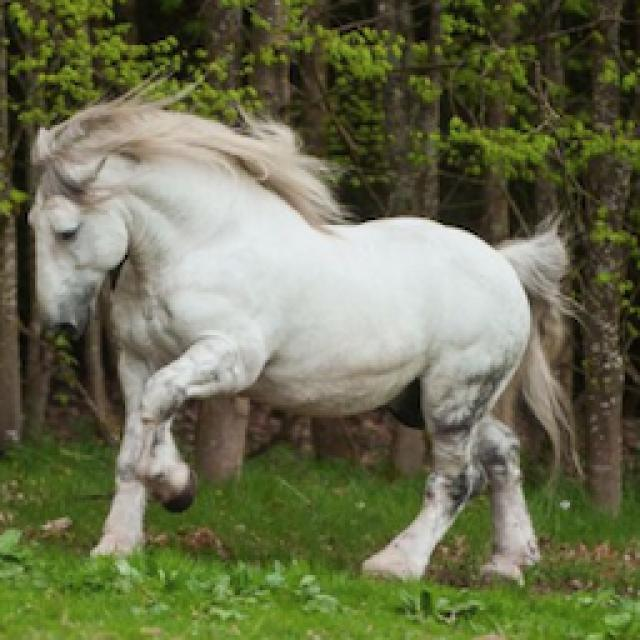Horse: (18, 82, 592, 590)
